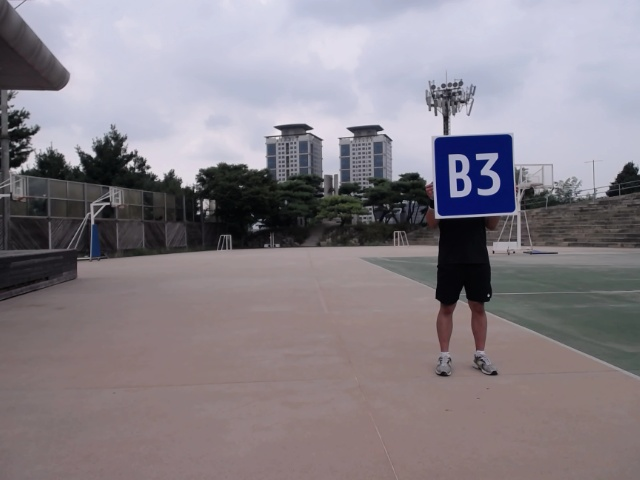delivery_b3: (431, 133, 519, 219)
